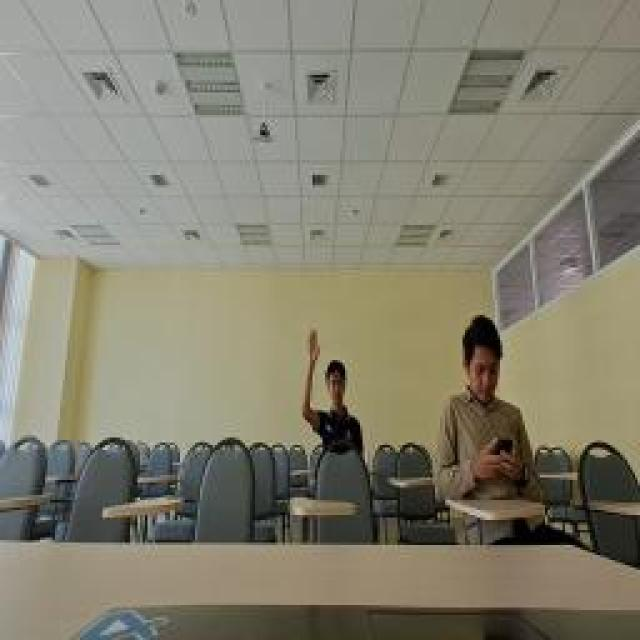phone: (430, 308, 540, 500)
study: (297, 307, 365, 505)
